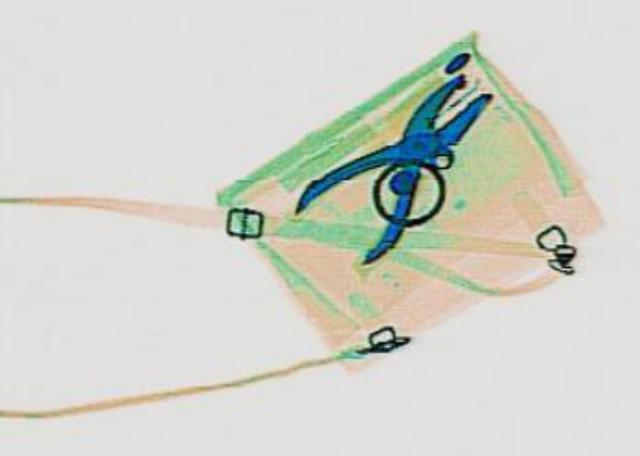Pliers: (264, 58, 532, 266)
